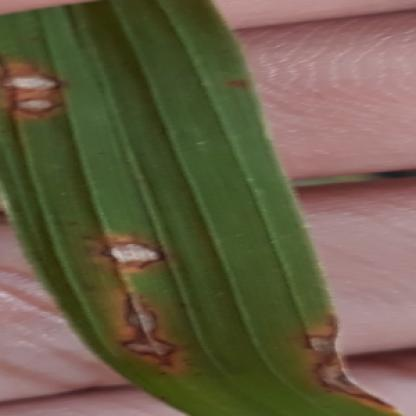Rice blast: (295, 313, 402, 416), (100, 290, 190, 373), (91, 238, 172, 272), (8, 94, 80, 126), (1, 69, 65, 94)
